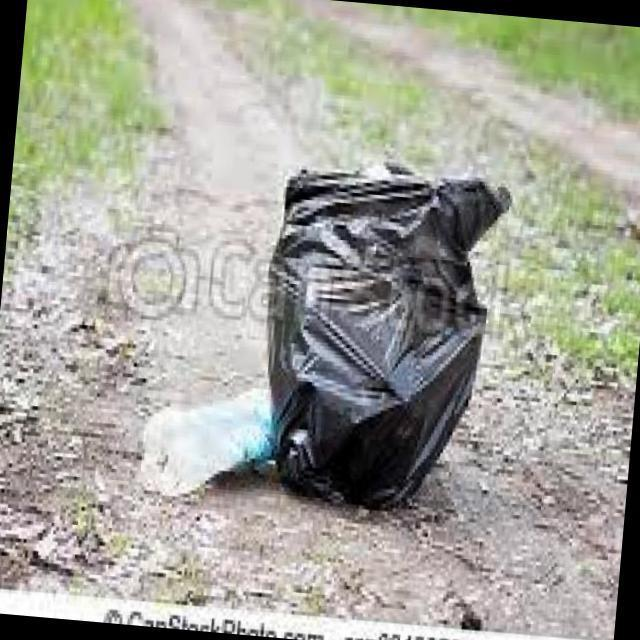garbage: (132, 134, 522, 524)
